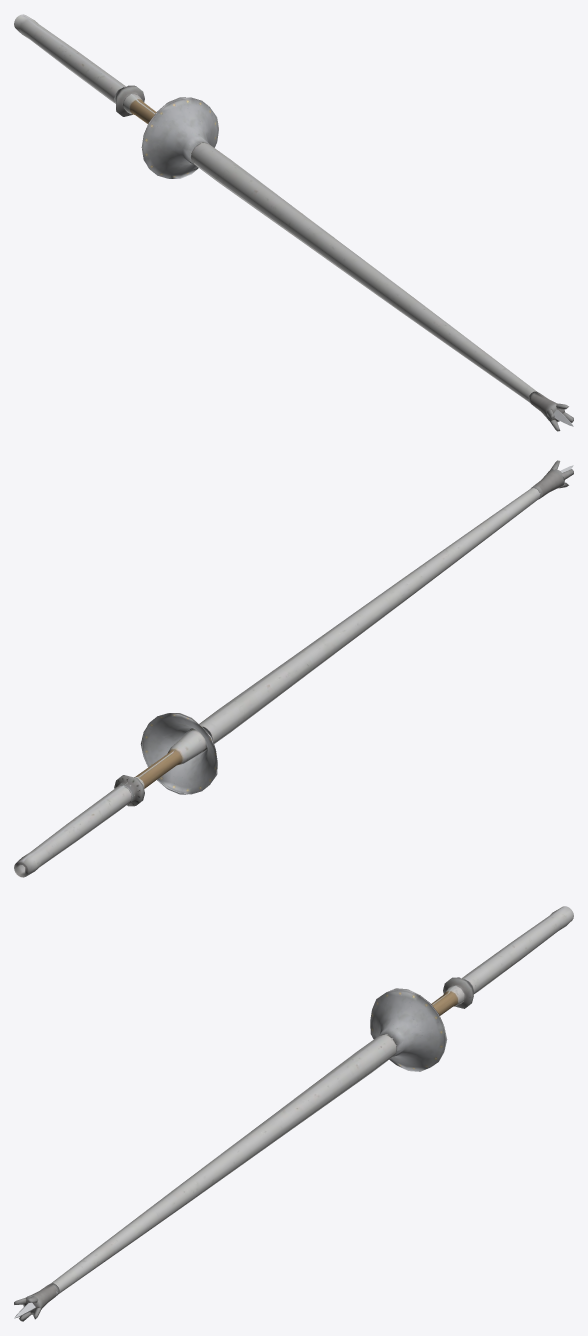
Rendered from lance_lod.glb.
3 views of the same model, one above another, from view 1: azimuth 30°, elevation 25°; view 2: azimuth 150°, elevation 25°; view 3: azimuth 330°, elevation 25° (orthographic).
Visible parts, largest first — view 1: lance_rear, lance_fore, lance_vamplate, coronel; view 2: lance_rear, lance_fore, lance_vamplate, coronel, lance_grapper; view 3: lance_rear, lance_fore, lance_vamplate, coronel.
Boxes of the visible parts, x1=… form: lance_rear: x1=14, y1=14, x2=308, y2=237; lance_fore: x1=293, y1=218, x2=536, y2=402; lance_vamplate: x1=141, y1=97, x2=218, y2=178; coronel: x1=528, y1=391, x2=573, y2=431; lance_rear: x1=14, y1=653, x2=312, y2=877; lance_fore: x1=297, y1=488, x2=540, y2=672; lance_vamplate: x1=140, y1=713, x2=217, y2=794; coronel: x1=531, y1=460, x2=573, y2=499; lance_grapper: x1=114, y1=775, x2=144, y2=806; lance_rear: x1=279, y1=906, x2=573, y2=1129; lance_fore: x1=51, y1=1110, x2=294, y2=1293; lance_vamplate: x1=370, y1=988, x2=447, y2=1071; coronel: x1=14, y1=1283, x2=59, y2=1321.
Bounding box in the file's own units: 0.3076 × 0.3122 × 3.83.
Materials: 1 (1 with a texture image).
